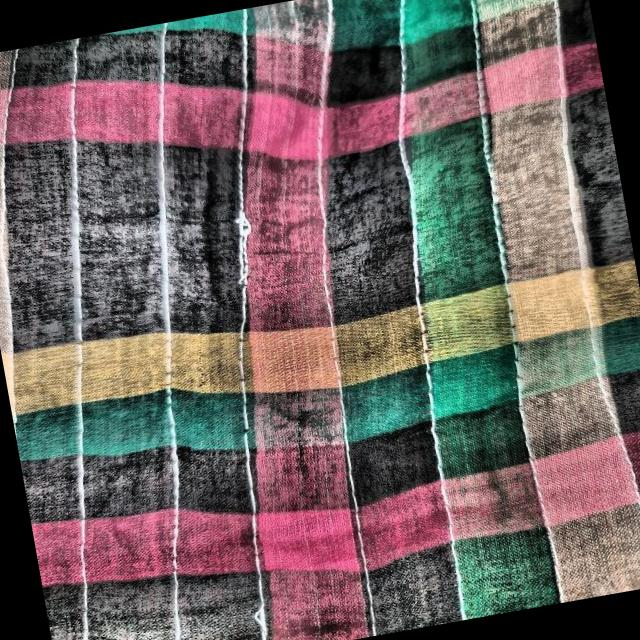gray stitch: (195, 172, 292, 343)
